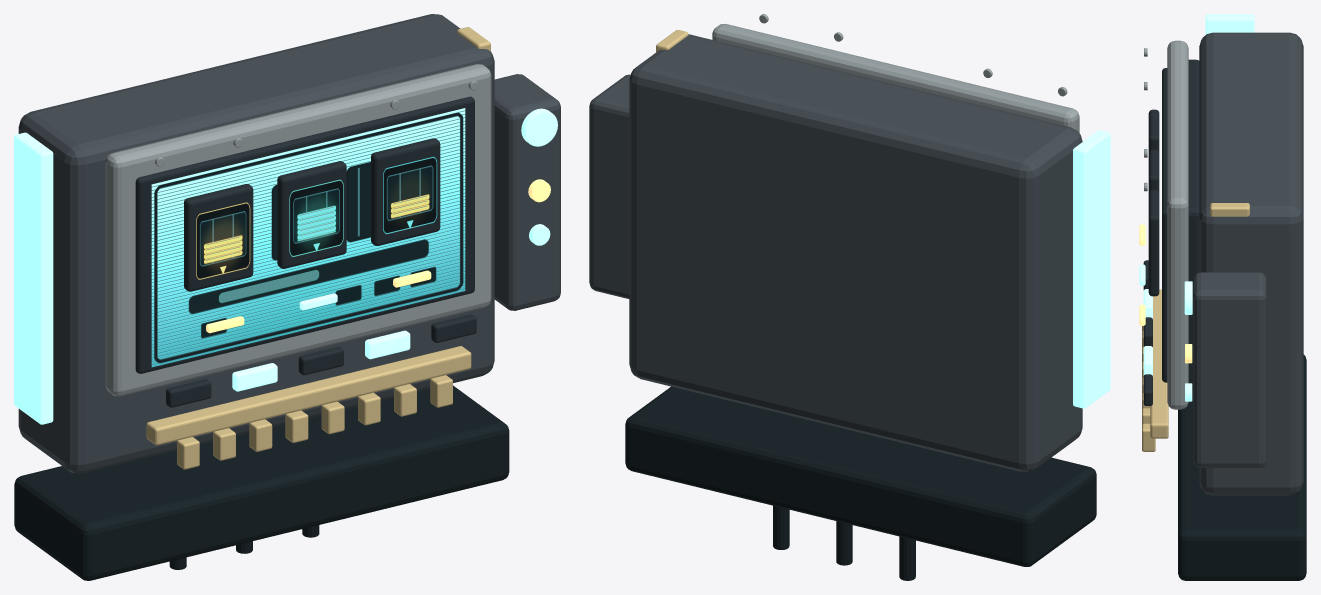
File: hp_puzzle_console_valve_matrix.glb
3 views of the same model, side by side, from view 1: azimuth 30°, elevation 25°; view 2: azimuth 150°, elevation 25°; view 3: azimuth 270°, elevation 25° (orthographic). The views are drawn at different scales.
Visible parts, largest first — view 1: gate_balance_body_back_slab, gate_balance_grounded_plinth, gate_balance_screen_back_image2, gate_balance_screen_dark_well, gate_balance_screen_outer_frame, gate_balance_right_status_module, gate_balance_left_cyan_fin, gate_balance_old_gold_lower_bus, gate_balance_gate_cell_frame_1, gate_balance_gate_cell_frame_2, gate_balance_gate_cell_frame_0, gate_balance_gate_cell_image2_1 (+11 smaller); view 2: gate_balance_body_back_slab, gate_balance_grounded_plinth, gate_balance_left_cyan_fin, gate_balance_right_status_module, gate_balance_screen_outer_frame, gate_balance_cable_tail_0.00, gate_balance_cable_tail_-0.22, gate_balance_cable_tail_0.22; view 3: gate_balance_body_back_slab, gate_balance_right_status_module, gate_balance_grounded_plinth, gate_balance_screen_outer_frame, gate_balance_screen_recess, gate_balance_screen_dark_well, gate_balance_old_gold_lower_bus, gate_balance_gate_cell_frame_2, gate_balance_left_cyan_fin, gate_balance_right_gold_fin, gate_balance_gate_cell_frame_1, gate_balance_gate_cell_frame_0 (+6 smaller).
Part boxes in pixels (left/top/right/bottom): gate_balance_body_back_slab: left=18, top=14, right=494, bottom=473; gate_balance_grounded_plinth: left=14, top=385, right=509, bottom=580; gate_balance_screen_back_image2: left=151, top=108, right=465, bottom=367; gate_balance_screen_dark_well: left=135, top=96, right=474, bottom=373; gate_balance_screen_outer_frame: left=105, top=64, right=491, bottom=396; gate_balance_right_status_module: left=494, top=74, right=560, bottom=310; gate_balance_left_cyan_fin: left=14, top=132, right=53, bottom=424; gate_balance_old_gold_lower_bus: left=146, top=346, right=471, bottom=445; gate_balance_gate_cell_frame_1: left=277, top=161, right=346, bottom=268; gate_balance_gate_cell_frame_2: left=371, top=138, right=440, bottom=245; gate_balance_gate_cell_frame_0: left=184, top=184, right=253, bottom=291; gate_balance_gate_cell_image2_1: left=289, top=179, right=343, bottom=256; gate_balance_body_back_slab: left=629, top=34, right=1082, bottom=472; gate_balance_grounded_plinth: left=625, top=386, right=1096, bottom=566; gate_balance_left_cyan_fin: left=1073, top=130, right=1110, bottom=408; gate_balance_right_status_module: left=589, top=74, right=630, bottom=298; gate_balance_screen_outer_frame: left=712, top=23, right=1079, bottom=132; gate_balance_cable_tail_0.00: left=836, top=521, right=852, bottom=565; gate_balance_cable_tail_-0.22: left=899, top=536, right=915, bottom=580; gate_balance_cable_tail_0.22: left=773, top=505, right=789, bottom=549; gate_balance_body_back_slab: left=1199, top=32, right=1303, bottom=495; gate_balance_right_status_module: left=1193, top=272, right=1266, bottom=467; gate_balance_grounded_plinth: left=1178, top=354, right=1306, bottom=580; gate_balance_screen_outer_frame: left=1167, top=40, right=1188, bottom=409; gate_balance_screen_recess: left=1188, top=59, right=1199, bottom=390; gate_balance_screen_dark_well: left=1162, top=68, right=1167, bottom=382; gate_balance_old_gold_lower_bus: left=1150, top=289, right=1168, bottom=438; gate_balance_gate_cell_frame_2: left=1148, top=190, right=1159, bottom=296; gate_balance_left_cyan_fin: left=1205, top=14, right=1254, bottom=34; gate_balance_right_gold_fin: left=1210, top=203, right=1249, bottom=216; gate_balance_gate_cell_frame_1: left=1148, top=149, right=1159, bottom=192; gate_balance_gate_cell_frame_0: left=1148, top=109, right=1159, bottom=152.
Bounding box in the file's own units: 1.71 × 1.53 × 0.546.
9 materials, 1 textured.
